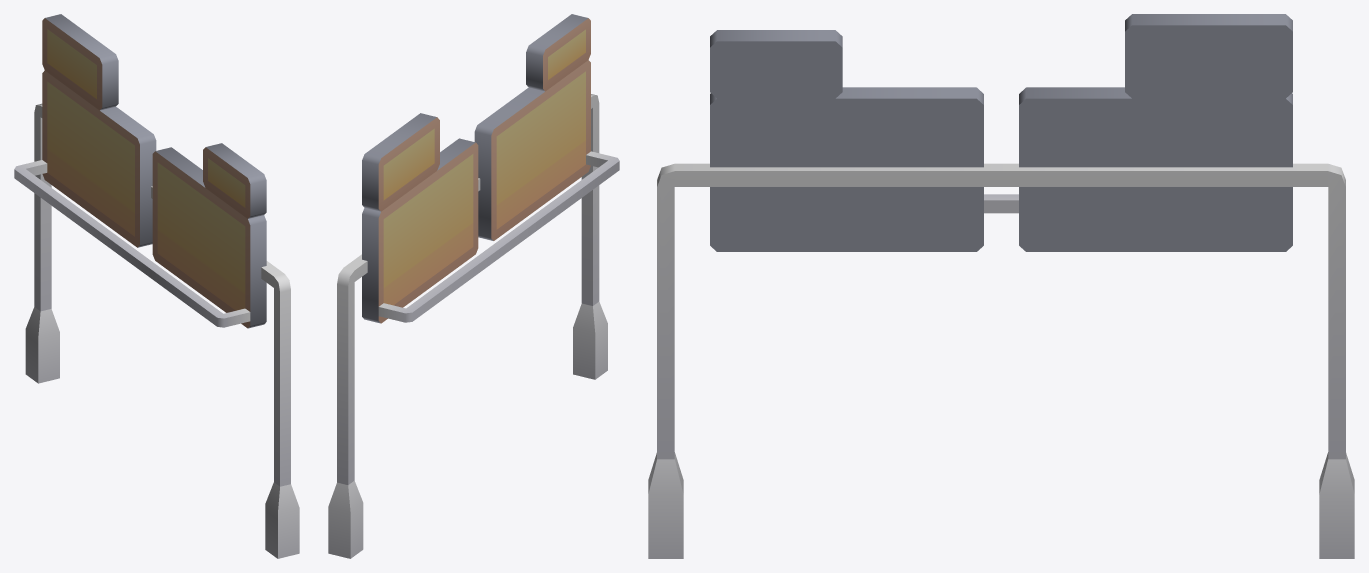
File: sign-highway-detailed.glb
The picture shows the model from 3 angles, left to right: view 1: azimuth 30°, elevation 25°; view 2: azimuth 150°, elevation 25°; view 3: azimuth 270°, elevation 25°; orthographic projection. The views are drawn at different scales.
Parts seen in each view (by area): view 1: sign-highway-detailed; view 2: sign-highway-detailed; view 3: sign-highway-detailed.
Boxes of the visible parts, <box> form: sign-highway-detailed: <box>14,14,299,558</box>; sign-highway-detailed: <box>328,14,619,558</box>; sign-highway-detailed: <box>648,14,1354,558</box>.
Size of the model in its own units: 0.1324 by 0.8221 by 1.
